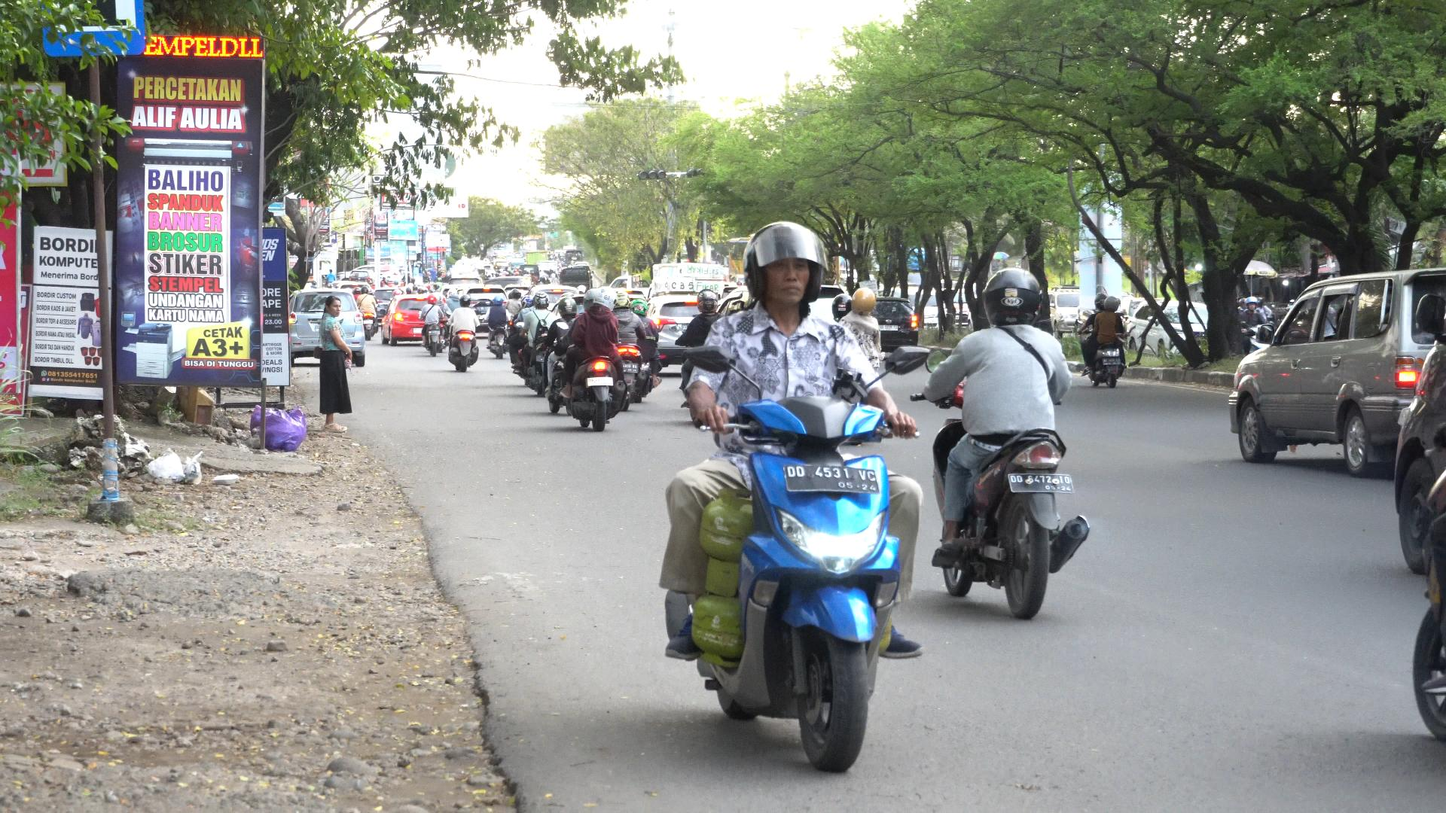number-plate: (783, 464, 886, 494)
